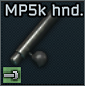MP5K cocking handle: (0, 0, 85, 86)
